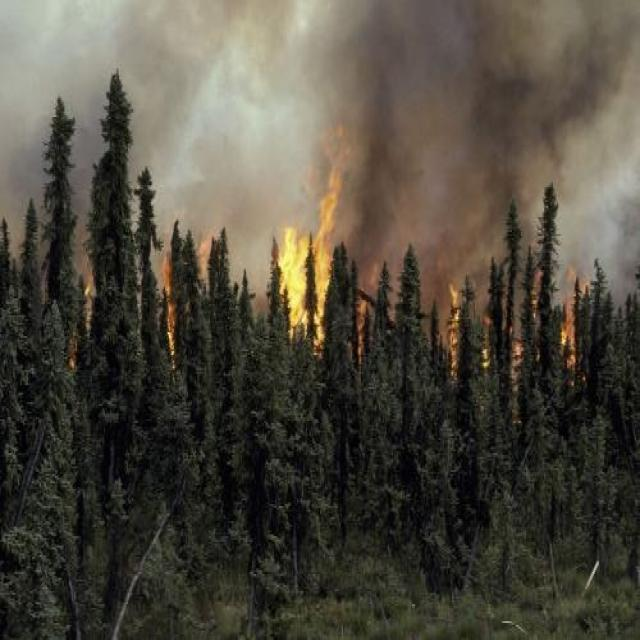Fire: (278, 151, 344, 359), (560, 264, 592, 364), (162, 251, 176, 357), (447, 283, 461, 376)
Smoke: (1, 1, 639, 328)
